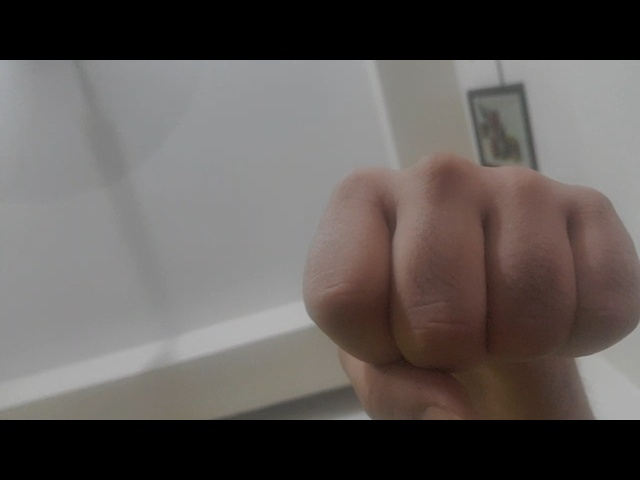Yes: (266, 147, 639, 415)
